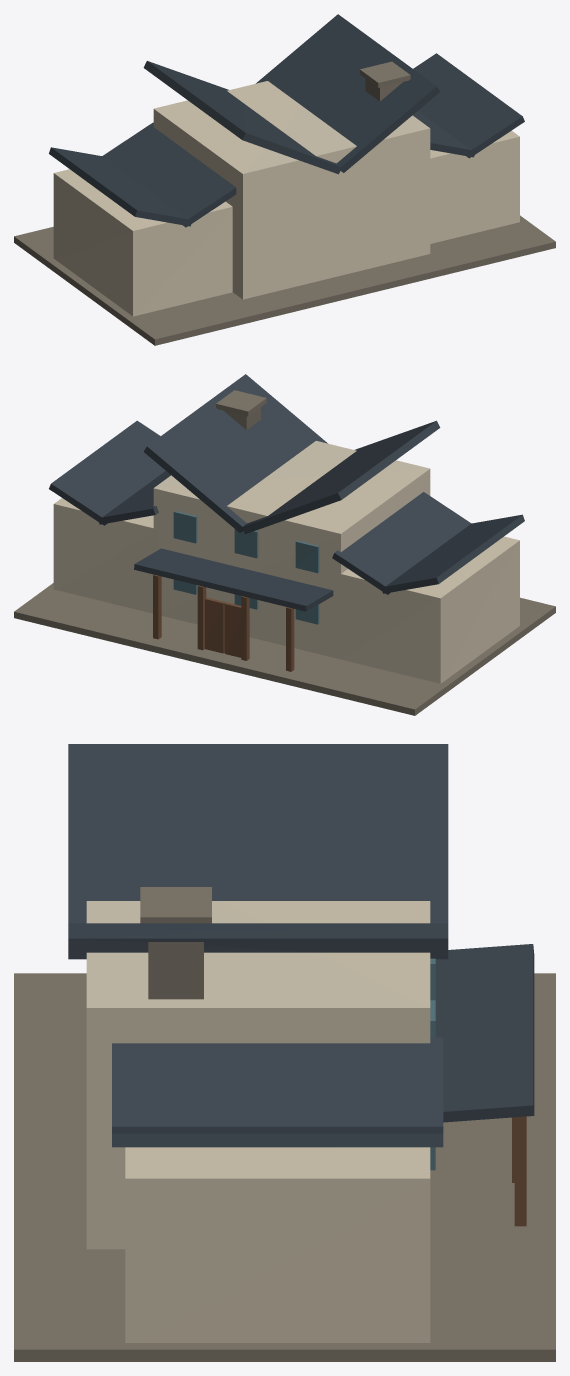
The model's file is manor-farmhouse.source.glb.
3 renders of one model, top to bottom at view 1: azimuth 30°, elevation 25°; view 2: azimuth 150°, elevation 25°; view 3: azimuth 270°, elevation 25°, orthographic. The views are drawn at different scales.
Visible parts, largest first — view 1: manor-farmhouse-central-hall-mesh, manor-farmhouse-west-wing-mesh, manor-farmhouse-footing-mesh, manor-farmhouse-central-roof-east-mesh, manor-farmhouse-east-wing-mesh, manor-farmhouse-wing-roof-east--6.5-mesh, manor-farmhouse-wing-roof-east-6.5-mesh, manor-farmhouse-central-roof-west-mesh, manor-farmhouse-wing-roof-west--6.5-mesh, manor-farmhouse-wing-roof-west-6.5-mesh, manor-farmhouse-chimney-cap-mesh; view 2: manor-farmhouse-central-hall-mesh, manor-farmhouse-west-wing-mesh, manor-farmhouse-footing-mesh, manor-farmhouse-central-roof-east-mesh, manor-farmhouse-east-wing-mesh, manor-farmhouse-wing-roof-east--6.5-mesh, manor-farmhouse-wing-roof-east-6.5-mesh, manor-farmhouse-porch-roof-mesh, manor-farmhouse-central-roof-west-mesh, manor-farmhouse-wing-roof-west--6.5-mesh, manor-farmhouse-wing-roof-west-6.5-mesh, manor-farmhouse-right-door-mesh (+9 smaller); view 3: manor-farmhouse-footing-mesh, manor-farmhouse-east-wing-mesh, manor-farmhouse-central-roof-west-mesh, manor-farmhouse-central-hall-mesh, manor-farmhouse-wing-roof-west-6.5-mesh, manor-farmhouse-porch-roof-mesh, manor-farmhouse-central-roof-east-mesh, manor-farmhouse-wing-roof-east-6.5-mesh, manor-farmhouse-chimney-stack-mesh, manor-farmhouse-chimney-cap-mesh, manor-farmhouse-porch-post-3.05-mesh.
Part boxes in pixels (x1,y1,x2,y2): manor-farmhouse-central-hall-mesh: (153,81,430,299); manor-farmhouse-west-wing-mesh: (53,169,232,316); manor-farmhouse-footing-mesh: (14,215,555,345); manor-farmhouse-central-roof-east-mesh: (256,14,439,172); manor-farmhouse-east-wing-mesh: (430,130,519,243); manor-farmhouse-wing-roof-east--6.5-mesh: (102,122,236,227); manor-farmhouse-wing-roof-east-6.5-mesh: (413,53,524,158); manor-farmhouse-central-roof-west-mesh: (143,61,341,174); manor-farmhouse-wing-roof-west--6.5-mesh: (49,147,192,226); manor-farmhouse-wing-roof-west-6.5-mesh: (412,111,475,157); manor-farmhouse-chimney-cap-mesh: (359,61,410,87); manor-farmhouse-central-hall-mesh: (153,441,430,658); manor-farmhouse-west-wing-mesh: (337,536,519,683); manor-farmhouse-footing-mesh: (14,583,555,715); manor-farmhouse-central-roof-east-mesh: (143,374,327,532); manor-farmhouse-east-wing-mesh: (53,498,157,613); manor-farmhouse-wing-roof-east--6.5-mesh: (332,492,471,594); manor-farmhouse-wing-roof-east-6.5-mesh: (49,420,165,525); manor-farmhouse-porch-roof-mesh: (134,548,333,611); manor-farmhouse-central-roof-west-mesh: (242,420,440,534); manor-farmhouse-wing-roof-west--6.5-mesh: (381,514,524,593); manor-farmhouse-wing-roof-west-6.5-mesh: (98,471,170,524); manor-farmhouse-right-door-mesh: (205,597,225,653); manor-farmhouse-footing-mesh: (14,973,555,1361); manor-farmhouse-east-wing-mesh: (125,1147,430,1342); manor-farmhouse-central-roof-west-mesh: (68,744,448,923); manor-farmhouse-central-hall-mesh: (86,901,430,1249); manor-farmhouse-wing-roof-west-6.5-mesh: (112,1037,443,1126); manor-farmhouse-porch-roof-mesh: (435,944,534,1122); manor-farmhouse-central-roof-east-mesh: (68,923,448,959); manor-farmhouse-wing-roof-east-6.5-mesh: (112,1126,443,1147); manor-farmhouse-chimney-stack-mesh: (148,942,203,999); manor-farmhouse-chimney-cap-mesh: (140,887,211,923); manor-farmhouse-porch-post-3.05-mesh: (514,1116,526,1226).
Size of the model in its own units: 18.4 by 7.76 by 11.2.
